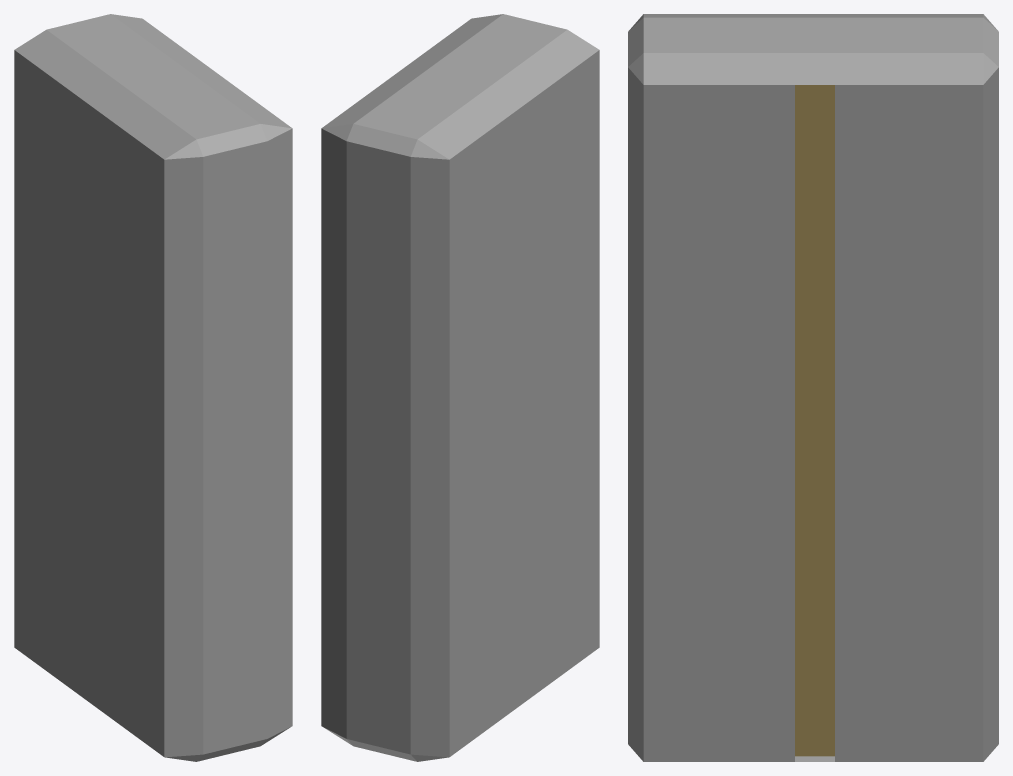
File: labCoatCloset.fbx
The picture shows the model from 3 angles, left to right: view 1: azimuth 30°, elevation 25°; view 2: azimuth 150°, elevation 25°; view 3: azimuth 270°, elevation 25°; orthographic projection. The views are drawn at different scales.
Visible parts, largest first — view 1: pCube135; view 2: pCube135; view 3: pCube135.
Boxes of the visible parts, box(x1,y1,x2,y2) form: pCube135: box(14, 14, 292, 761); pCube135: box(321, 14, 599, 761); pCube135: box(628, 14, 998, 761).
Bounding box in the file's own units: 2.7 × 12.53 × 5.97.
